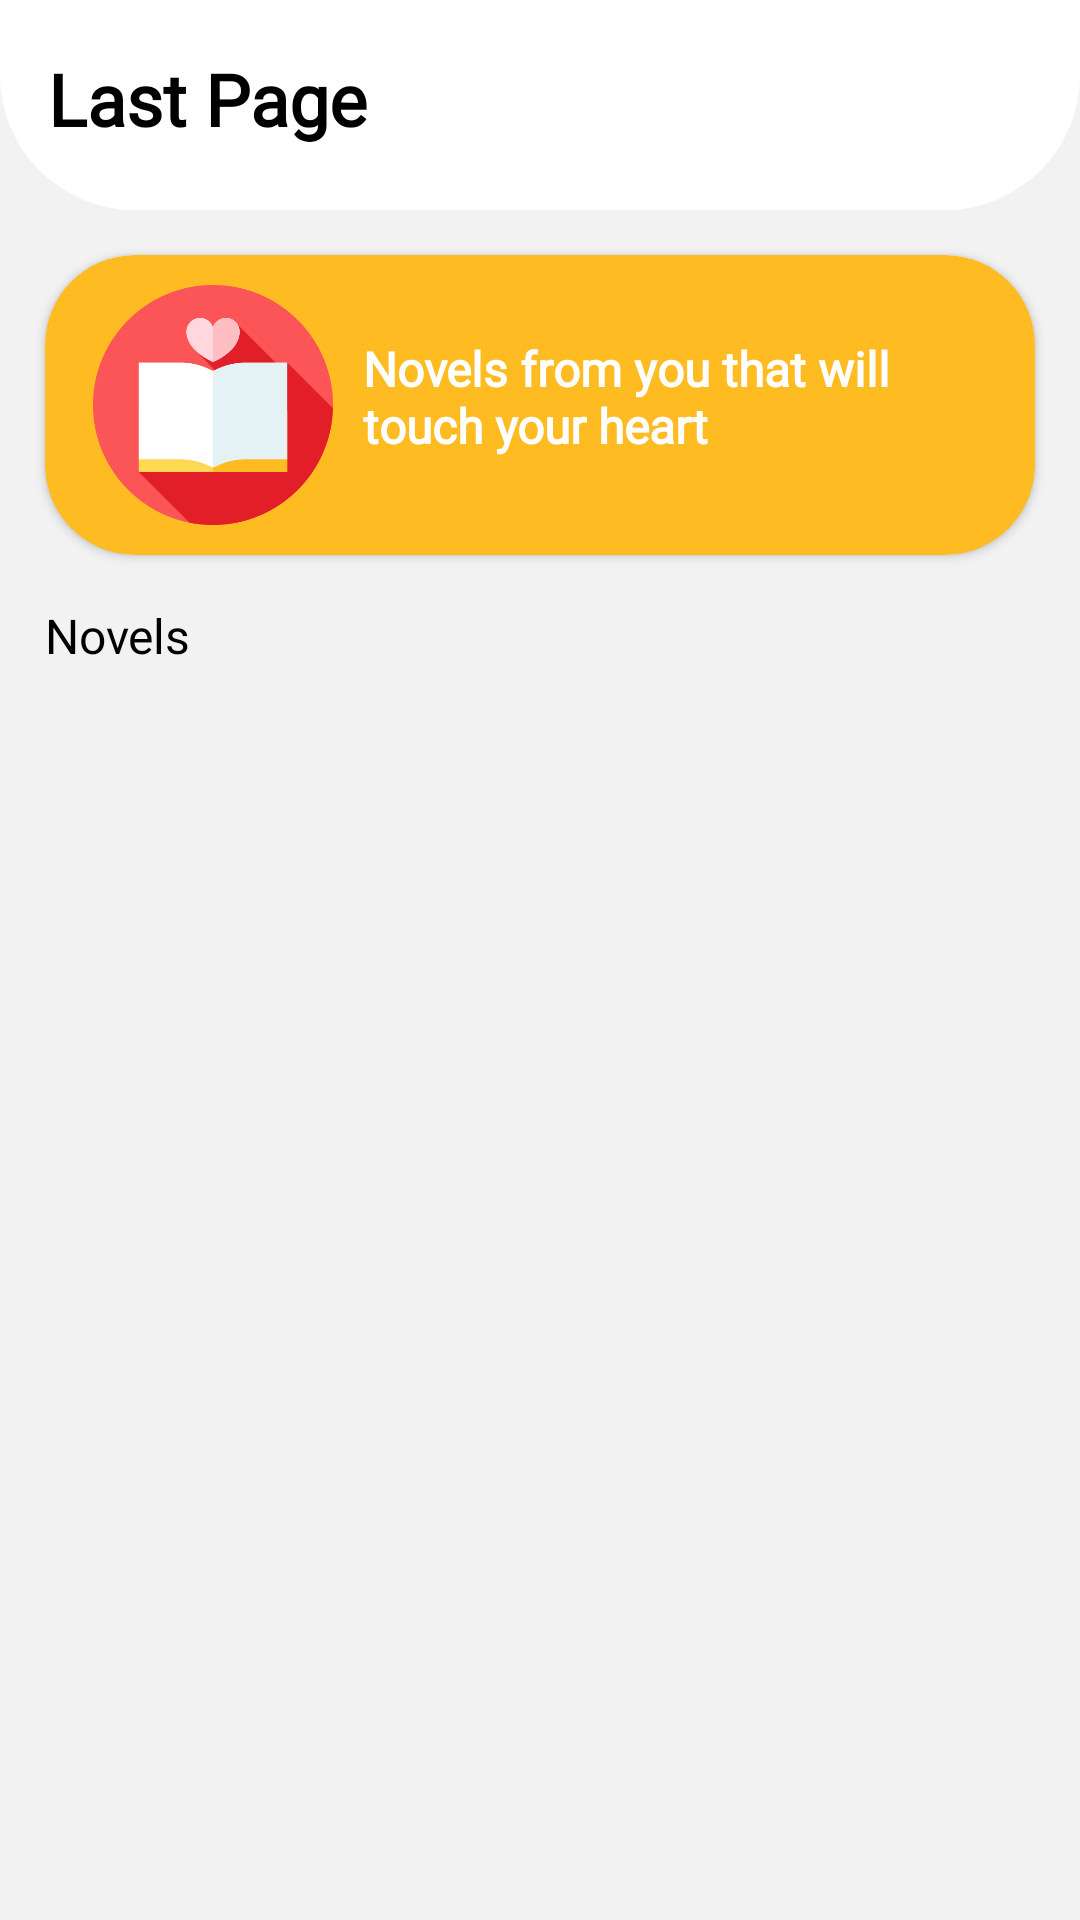

Icon click points for this 1080px×1920px phone screenshot, format [x,y]:
notebook: [213,405]
